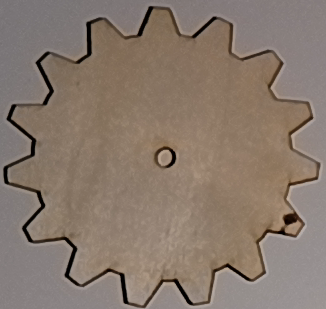Points: (277, 208, 300, 236)
